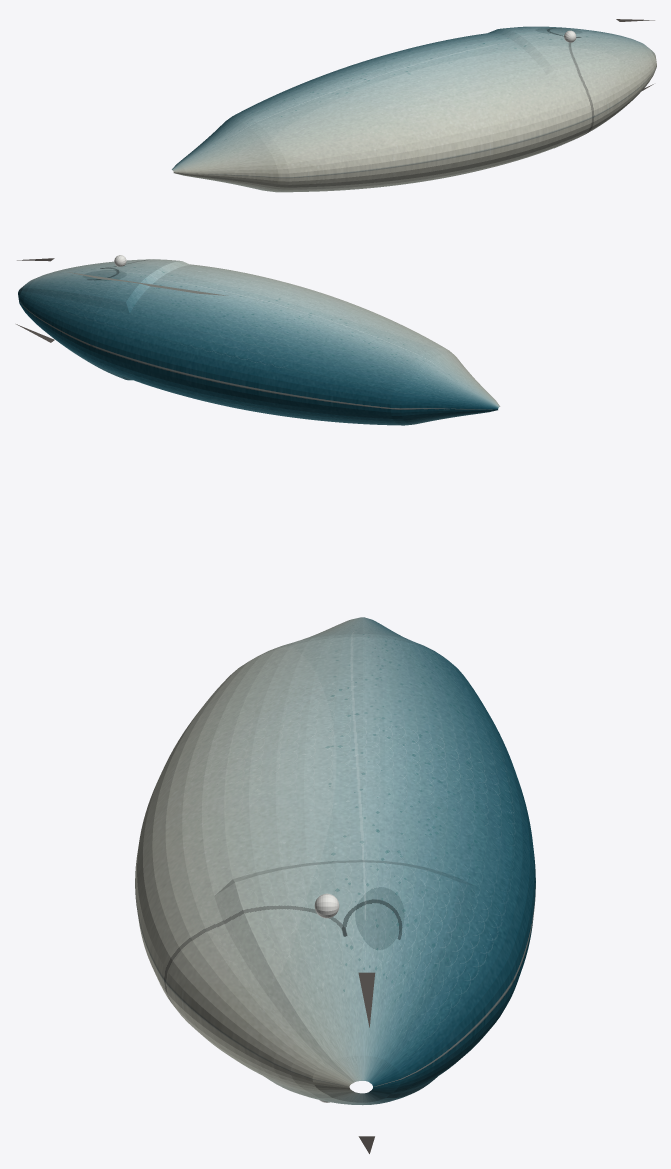
Rendered from bluefish_photoreal_style.glb.
3 views of the same model, one above another, from view 1: azimuth 30°, elevation 25°; view 2: azimuth 150°, elevation 25°; view 3: azimuth 270°, elevation 25° (orthographic). The views are drawn at different scales.
Parts seen in each view (by area): view 1: body; view 2: body, pectoral_fin_1; view 3: body.
Part boxes in pixels (left/top/right/bottom): body: left=172, top=26, right=656, bottom=192; body: left=18, top=259, right=500, bottom=425; pectoral_fin_1: left=67, top=272, right=227, bottom=295; body: left=135, top=617, right=535, bottom=1105.
Bounding box in the file's own units: 4.14 × 0.748 × 1.18.
Materials: 1 (1 with a texture image).
